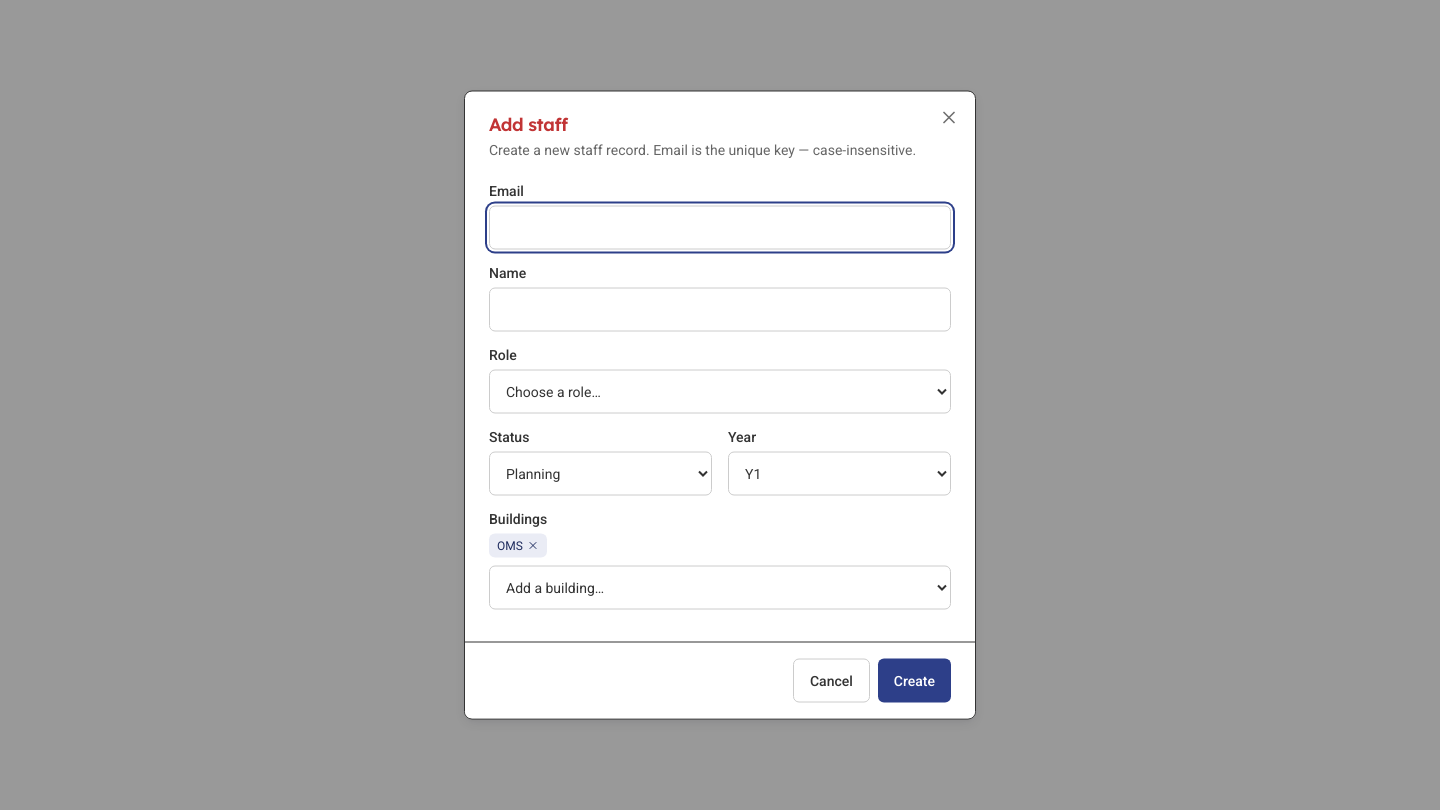
Test: StaffDialog with buildingScope › refuses an address outside the district
Type "someone@gmail.com" into the field labelled "Email".
click(720, 228); type("someone@gmail.com")  # box 489,206 -> 951,250
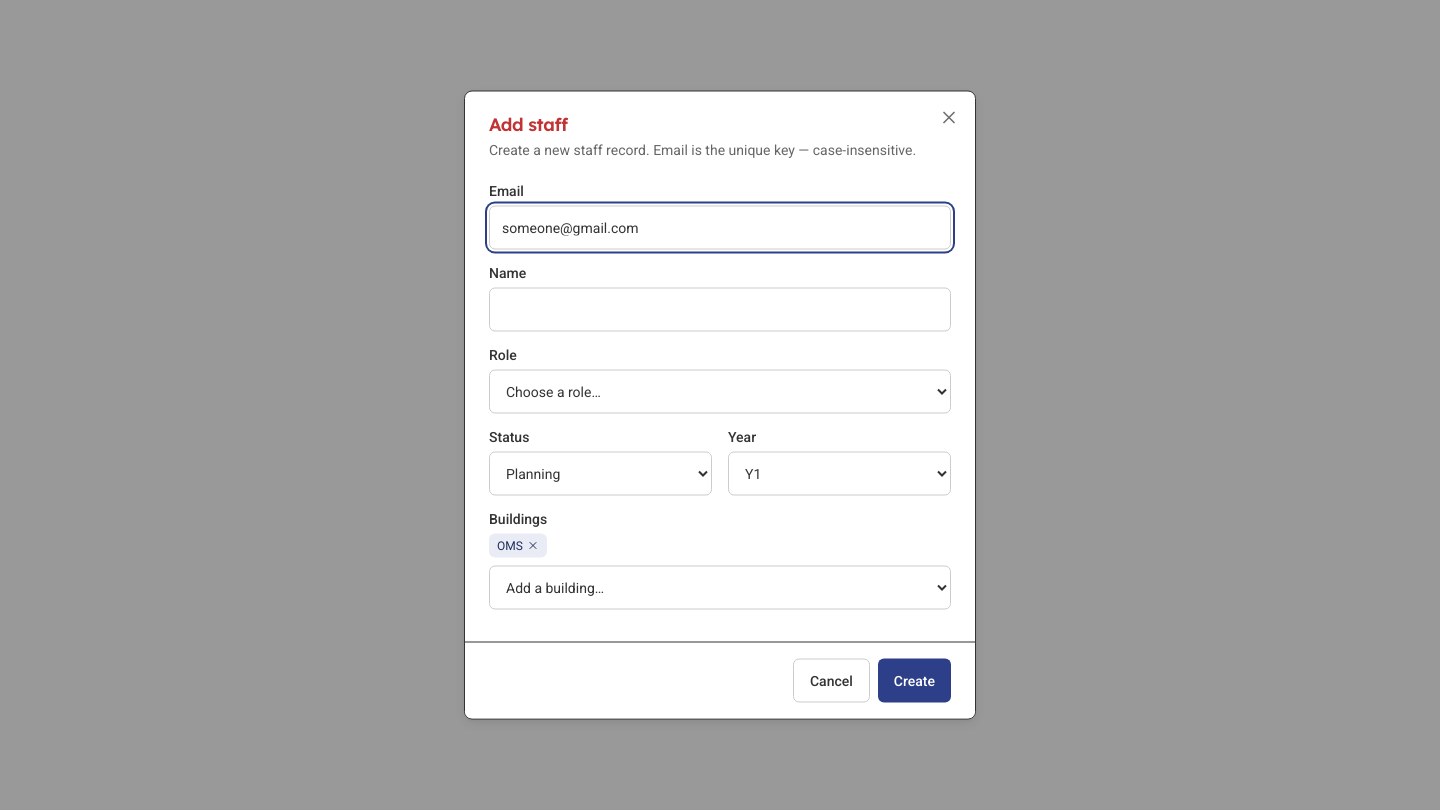
Type "Outsider" into the field labelled "Name".
click(720, 310); type("Outsider")  # box 489,288 -> 951,332
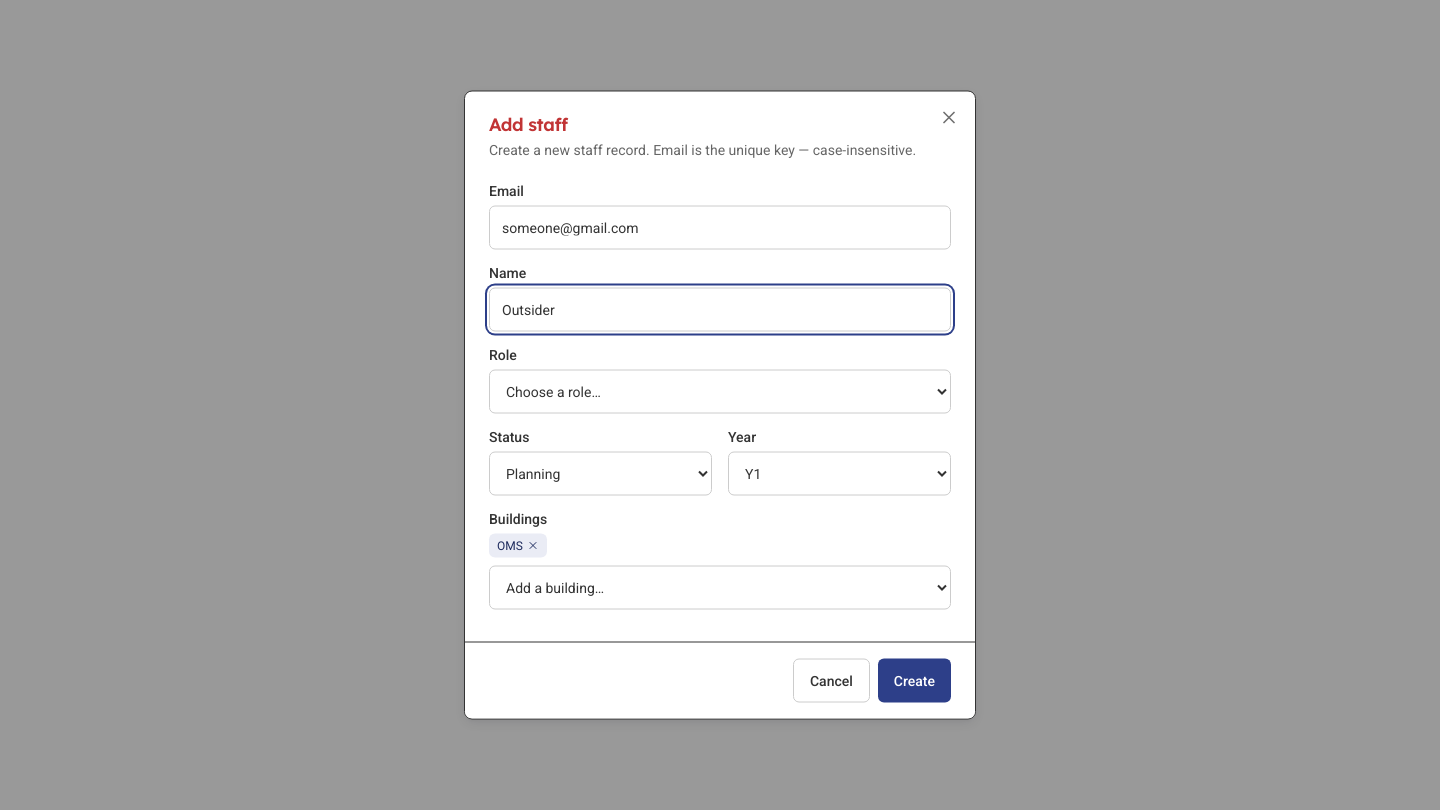
Select "Classroom Teacher" in the dropdown labelled "Role" at point(720, 392), box 489,370 -> 951,414
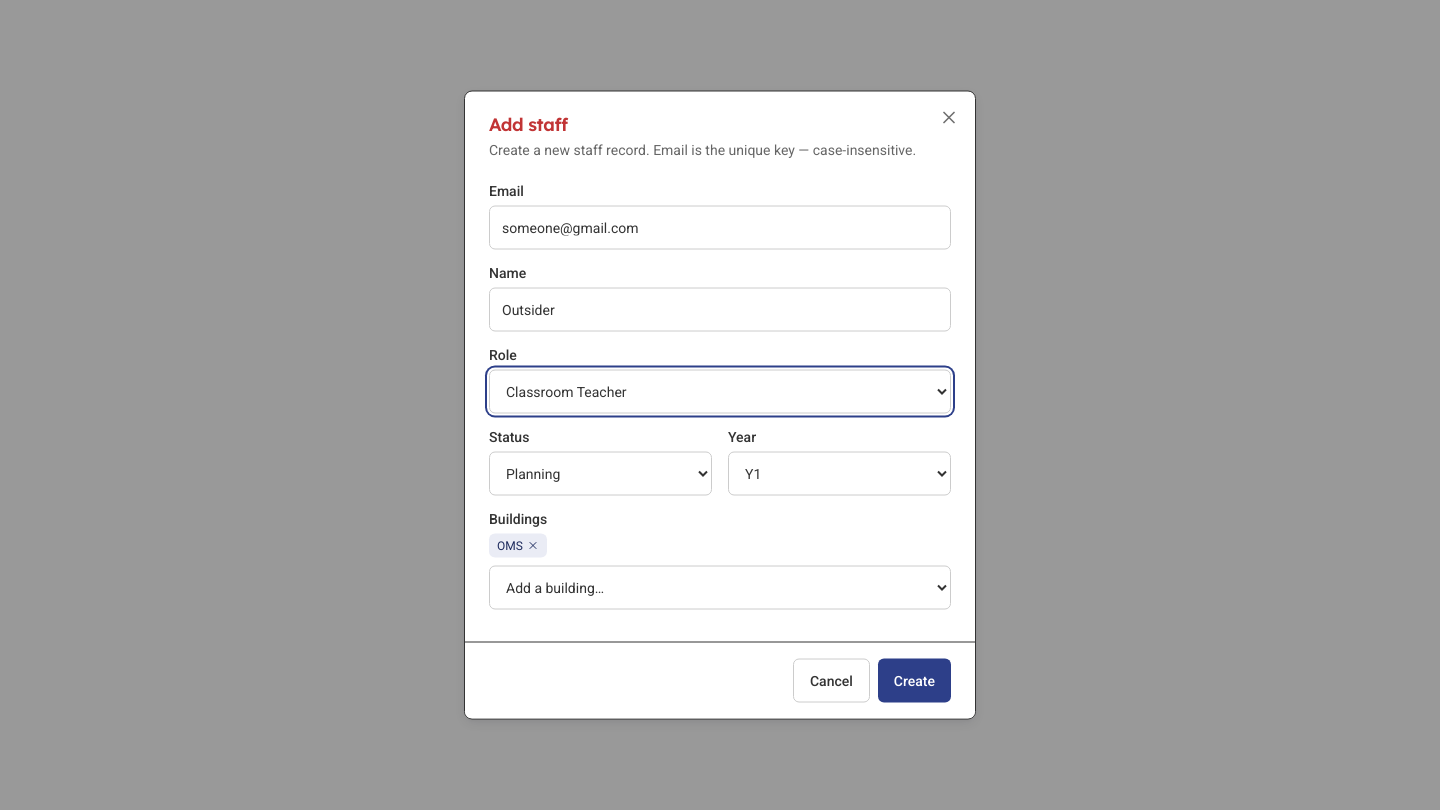
Click the button "Create".
click(914, 680)  # box 878,658 -> 951,702
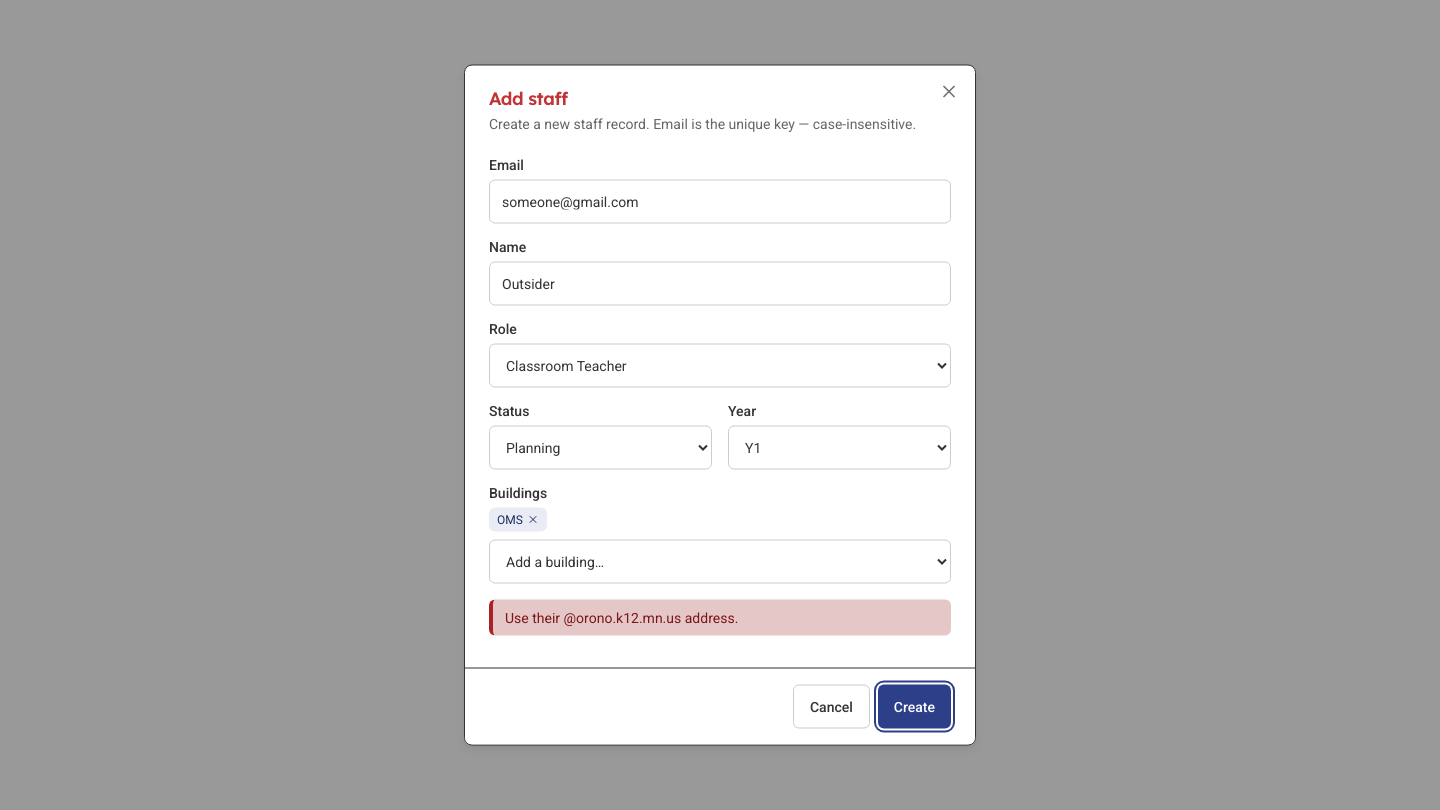
Result: the text "Use their @orono.k12.mn.us address." is shown at 489,600 -> 951,636
